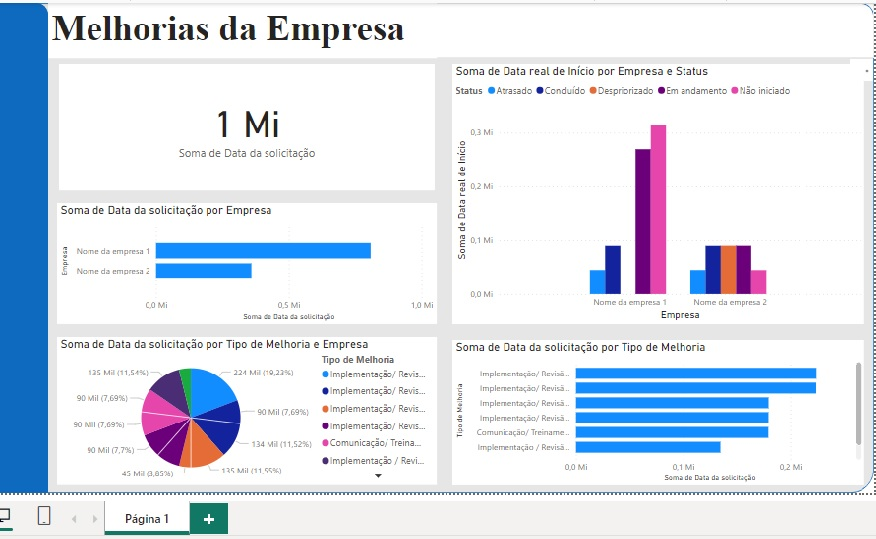

This screenshot's page, from the dashboard's own definition file:
{"tool":"powerbi","page":{"name":"Página 1","canvas":[1280,720],"ordinal":0},"visuals":[{"type":"shape","box":[10.1,0,1270.1,720],"z":0},{"type":"shape","box":[0,0,70.6,720],"z":1000},{"type":"shape","box":[70.6,0,1209.6,80.6],"z":2000},{"type":"textbox","box":[70.6,0,568.8,80.6],"z":7000},{"type":"card","fields":{"Values":["Sum(Tabela4.Data da solicitação)"]},"box":[86.4,89.3,550.1,185.8],"z":8006},{"type":"clusteredBarChart","fields":{"Category":["Tabela4.Empresa"],"Y":["Sum(Tabela4.Data da solicitação)"]},"box":[83.5,293.8,555.8,177.1],"z":8007},{"type":"clusteredColumnChart","fields":{"Category":["Tabela4.Empresa"],"Y":["Sum(Tabela4.Data real de Início)"],"Series":["Tabela4.Status"]},"box":[662.4,89.3,603.4,381.6],"z":8008},{"type":"pieChart","fields":{"Category":["Tabela4.Tipo de Melhoria"],"Series":["Tabela4.Empresa"],"Y":["Sum(Tabela4.Data da solicitação)"]},"box":[83.5,491,555.8,217.4],"z":8009},{"type":"clusteredBarChart","fields":{"Category":["Tabela4.Tipo de Melhoria"],"Y":["Sum(Tabela4.Data da solicitação)"]},"box":[662.4,495.4,603.4,213.1],"z":8010}]}

Visuals, with their boxes on the page's 1280x720 design canvas (x1, y1, x2, y2). These are canvas units, not pixel positions in the 876x539 screenshot, which may show the page scaled, cropped or inside an application window:
shape: l=10, t=0, r=1280, b=720
shape: l=0, t=0, r=71, b=720
shape: l=71, t=0, r=1280, b=81
textbox: l=71, t=0, r=639, b=81
card - Sum(Tabela4.Data da solicitação): l=86, t=89, r=636, b=275
clusteredBarChart - Tabela4.Empresa x Sum(Tabela4.Data da solicitação): l=84, t=294, r=639, b=471
clusteredColumnChart - Tabela4.Empresa x Sum(Tabela4.Data real de Início): l=662, t=89, r=1266, b=471
pieChart - Tabela4.Tipo de Melhoria x Tabela4.Empresa: l=84, t=491, r=639, b=708
clusteredBarChart - Tabela4.Tipo de Melhoria x Sum(Tabela4.Data da solicitação): l=662, t=495, r=1266, b=708
